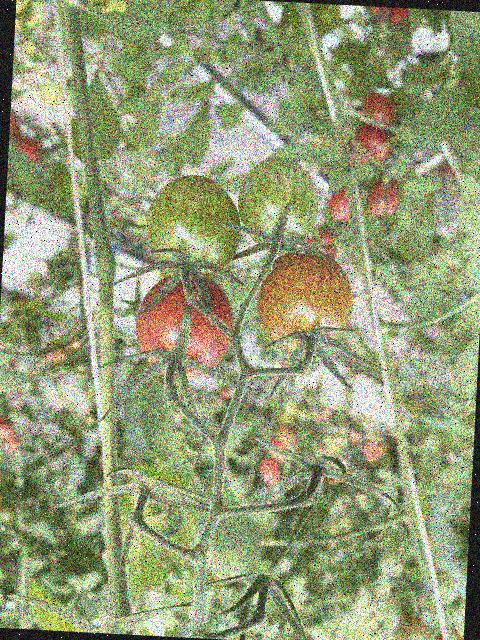l_fully_ripened: (132, 272, 236, 380)
l_green: (143, 173, 244, 282), (236, 154, 322, 253)
l_half_ripened: (254, 246, 355, 355)
